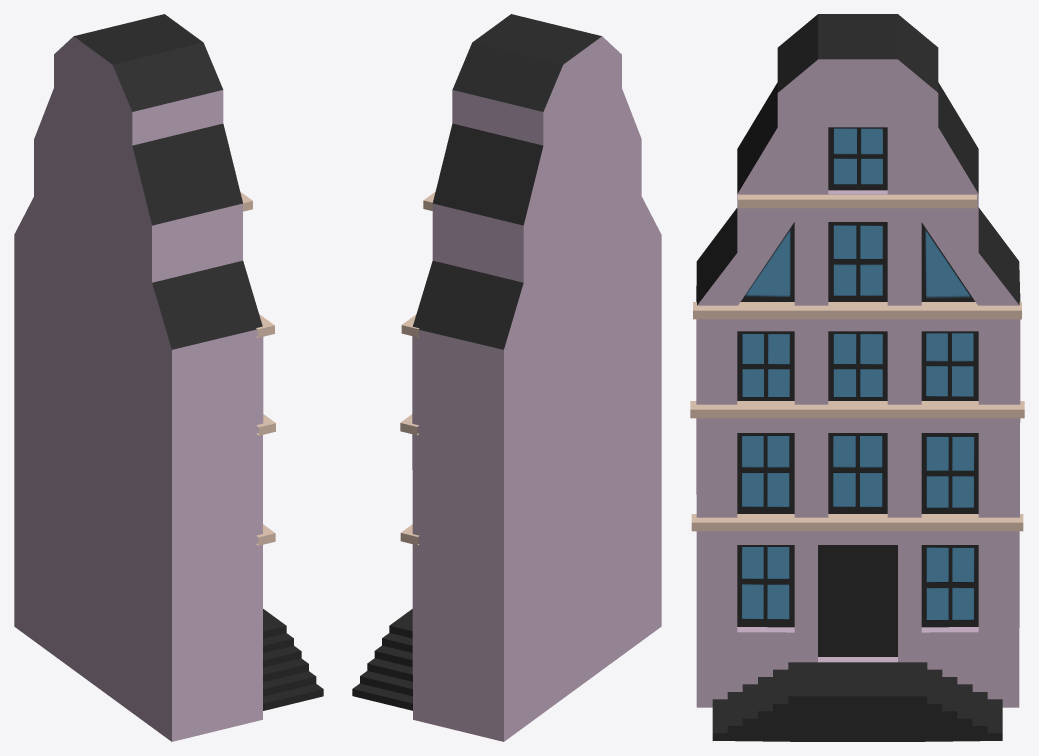
Rendered from HighLavender.obj.
The picture shows the model from 3 angles, left to right: view 1: azimuth 30°, elevation 25°; view 2: azimuth 150°, elevation 25°; view 3: azimuth 270°, elevation 25°; orthographic projection. The views are drawn at different scales.
Parts seen in each view (by area): view 1: WysokiLawenda; view 2: WysokiLawenda; view 3: WysokiLawenda.
Part boxes in pixels (x1,y1,x2,y2): WysokiLawenda: [14, 14, 323, 741]; WysokiLawenda: [352, 14, 661, 741]; WysokiLawenda: [690, 14, 1024, 741].
Size of the model in its own units: 3.5 by 13.31 by 6.21.
